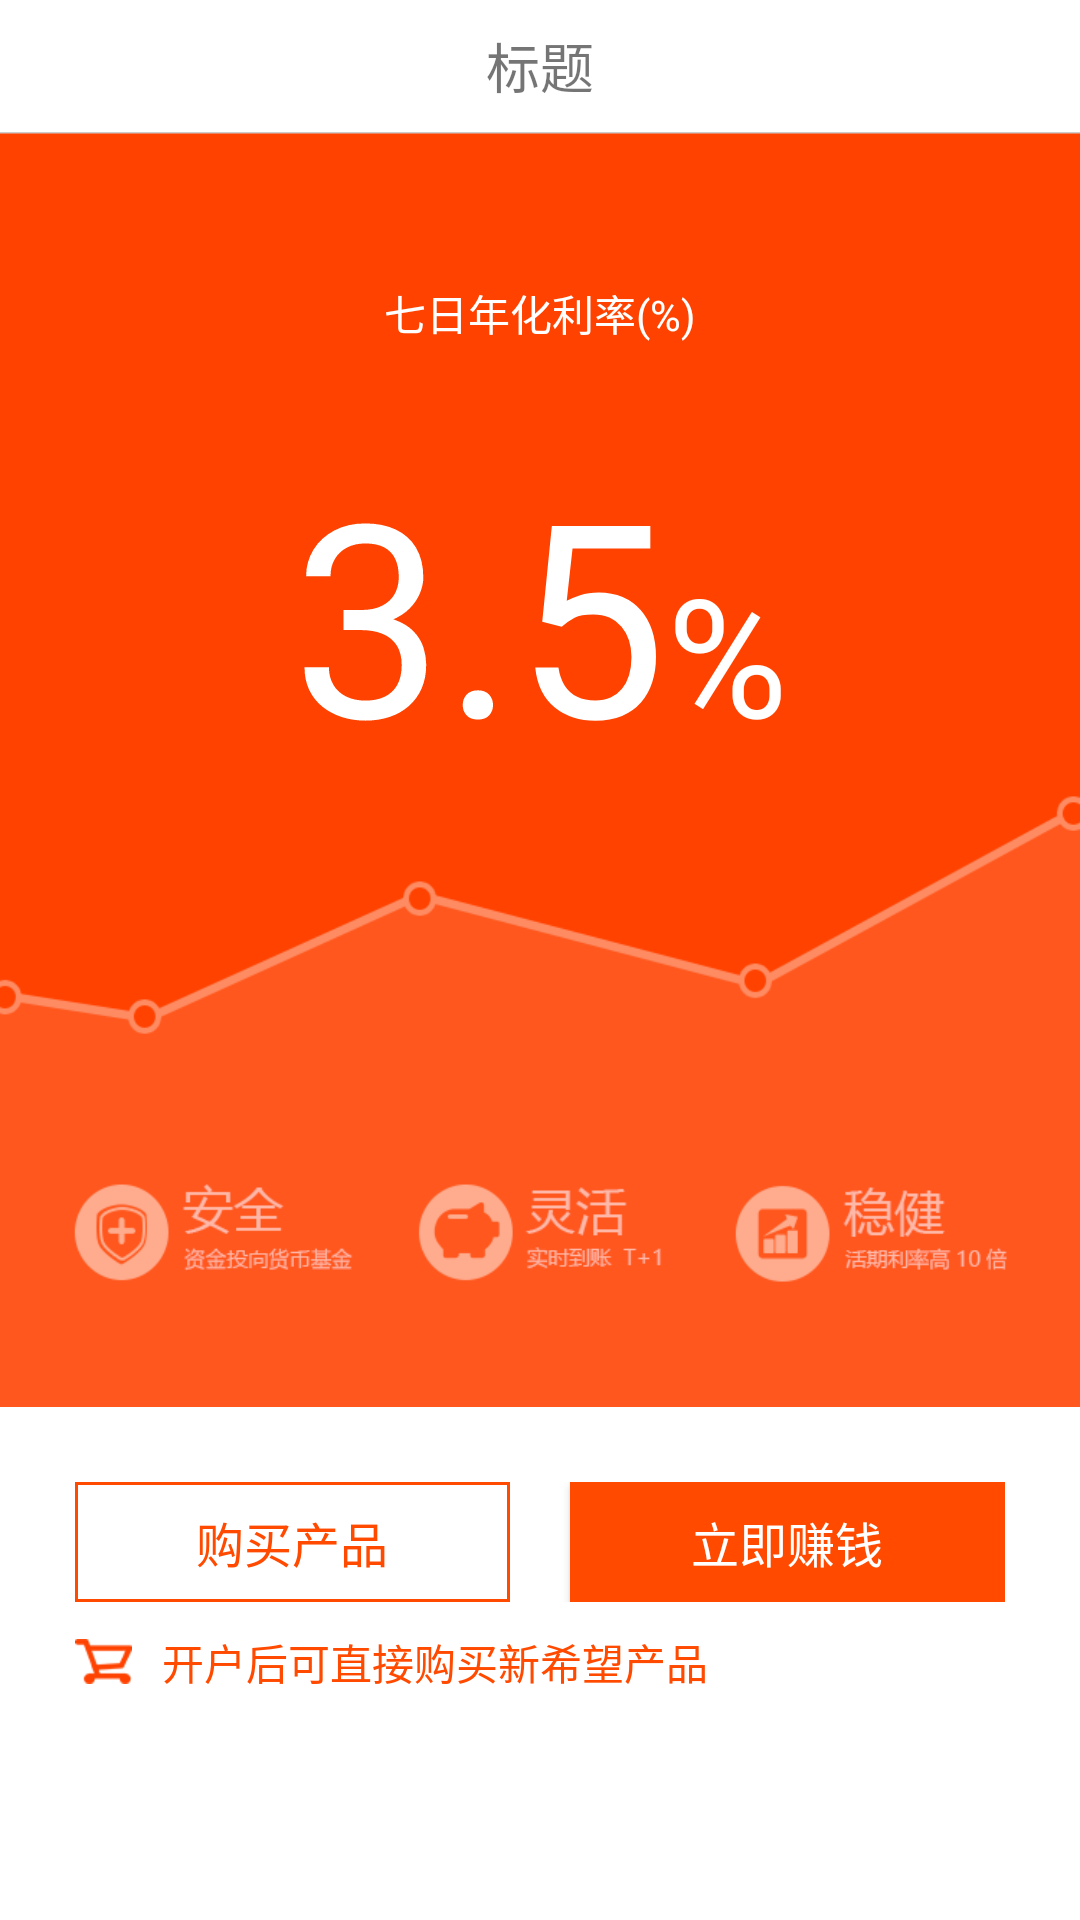

Icon click points for this 1080 × 1920 phone screenshot, format (x,y):
fund cart: (103,1661)
